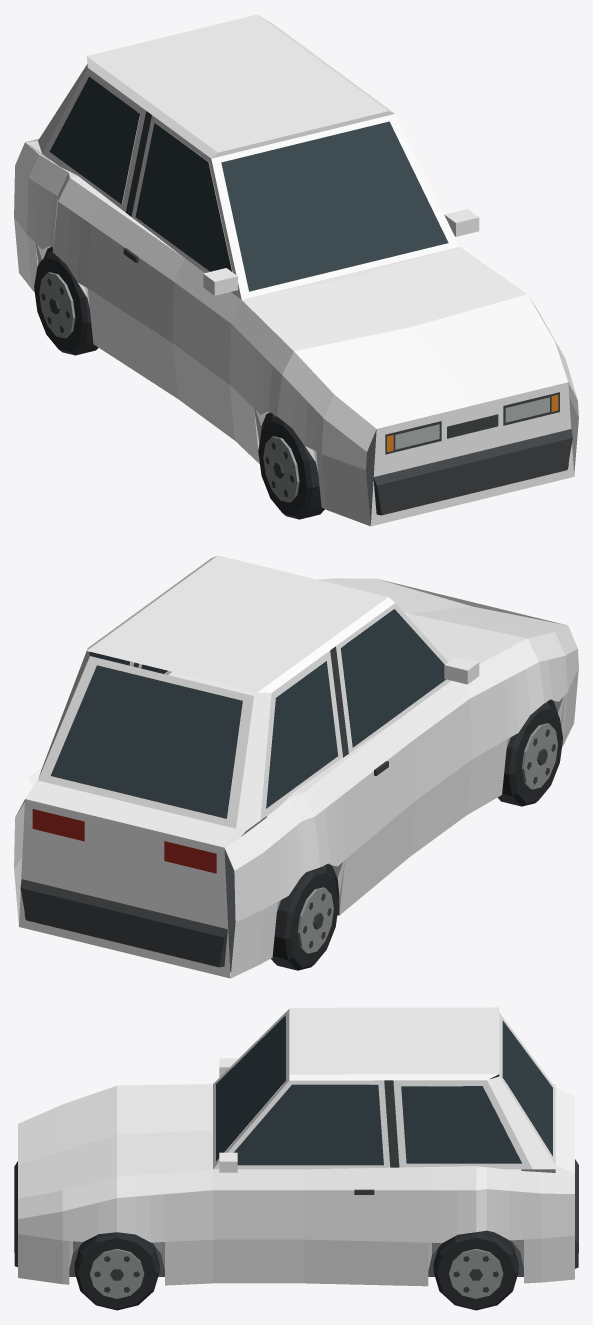
Rendered from kanaya_yuzuki_gt_98.glb.
The picture shows the model from 3 angles, top to bottom: view 1: azimuth 30°, elevation 25°; view 2: azimuth 150°, elevation 25°; view 3: azimuth 270°, elevation 25°; orthographic projection. The views are drawn at different scales.
Visible parts, largest first — view 1: kanaya_yuzuki_gt_98; view 2: kanaya_yuzuki_gt_98; view 3: kanaya_yuzuki_gt_98.
Boxes of the visible parts, x1=… form: kanaya_yuzuki_gt_98: x1=14, y1=14, x2=578, y2=526; kanaya_yuzuki_gt_98: x1=14, y1=555, x2=578, y2=978; kanaya_yuzuki_gt_98: x1=14, y1=1007, x2=578, y2=1310.
Bounding box in the file's own units: 1.61 × 1.59 × 3.68.
Materials: 8 (1 with a texture image).
